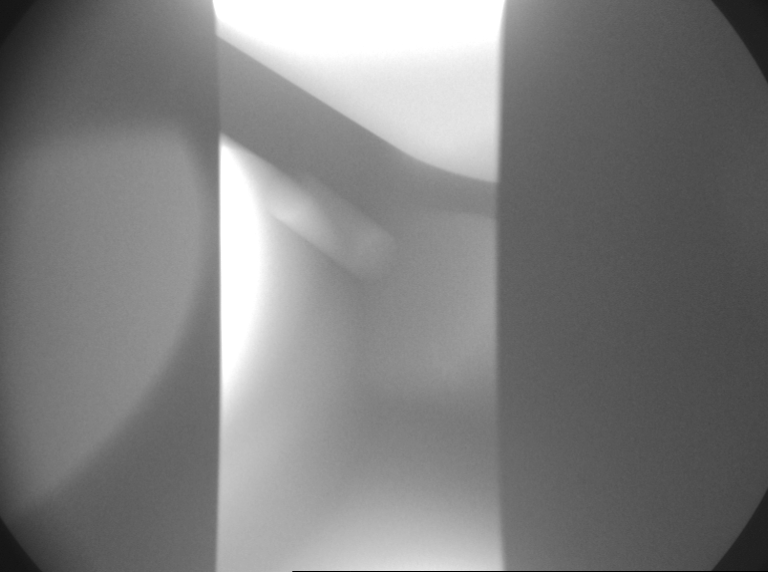defect: (423, 344, 465, 389)
